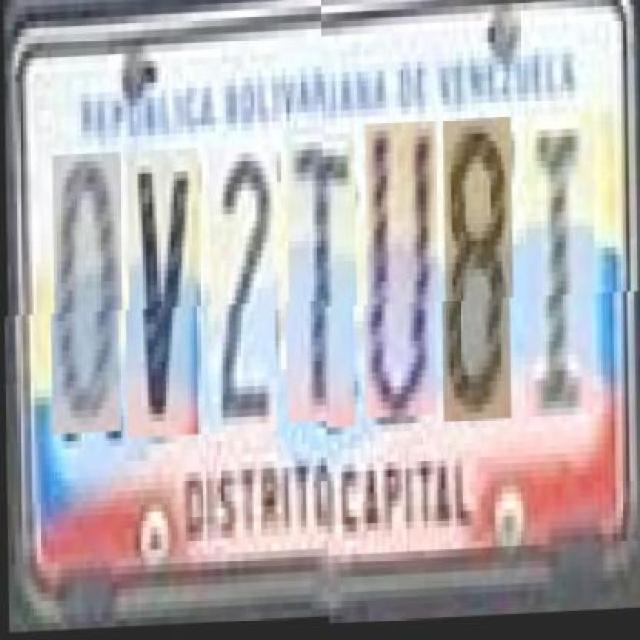2: (208, 154, 280, 443)
8: (442, 122, 513, 426)
i: (524, 119, 596, 423)
o: (51, 161, 122, 442)
t: (286, 136, 357, 433)
u: (364, 125, 438, 422)
v: (127, 158, 201, 447)
